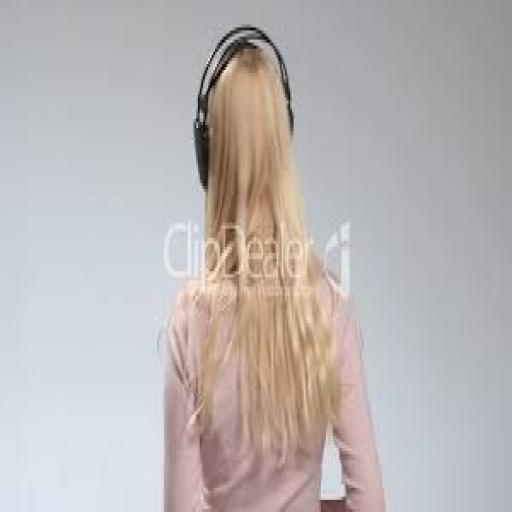listening_to_music: (159, 24, 387, 509), (190, 21, 296, 192)
